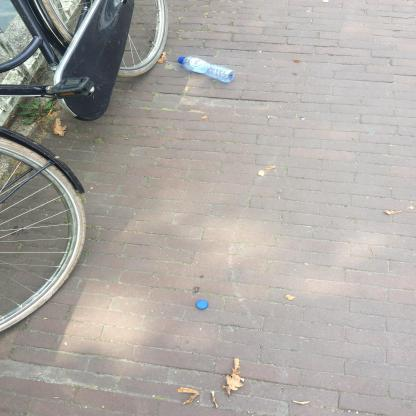plastik: (179, 57, 237, 84), (197, 301, 210, 311)
